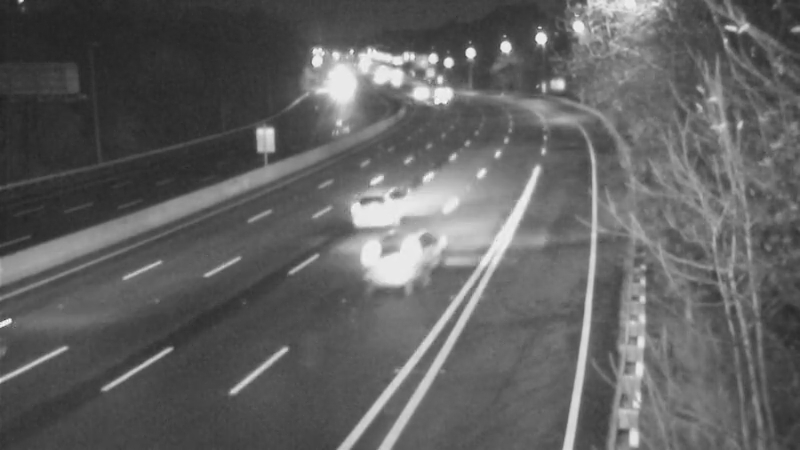vehicle: (337, 167, 417, 247), (350, 226, 430, 306), (419, 66, 469, 116), (414, 75, 464, 125)
